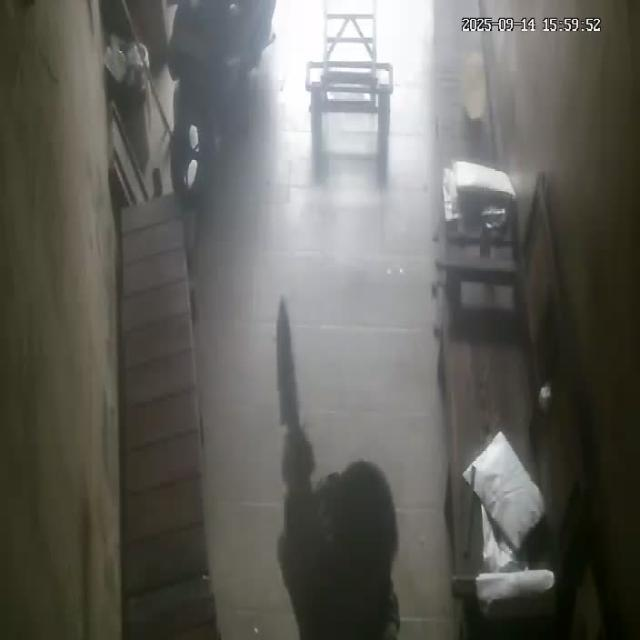senjata_tajam: (273, 292, 301, 432)
